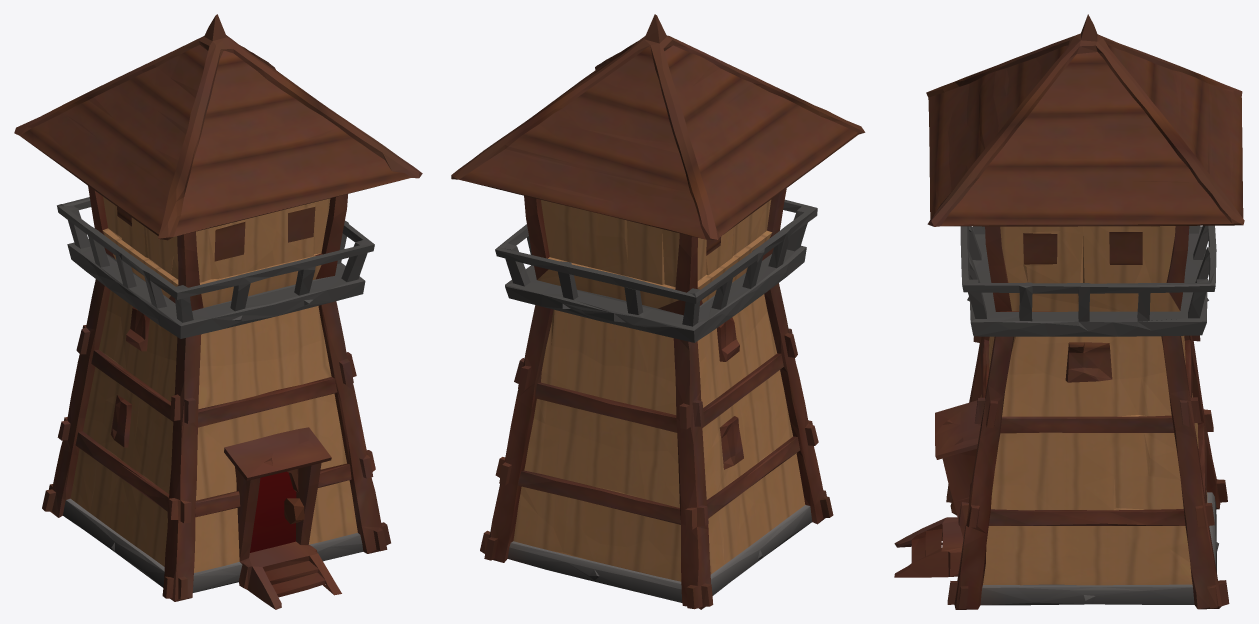
The model's file is Tower.fbx.
3 renders of one model, left to right at view 1: azimuth 30°, elevation 25°; view 2: azimuth 150°, elevation 25°; view 3: azimuth 270°, elevation 25°, orthographic. The views are drawn at different scales.
Parts seen in each view (by area): view 1: Tower; view 2: Tower; view 3: Tower.
Boxes of the visible parts, x1=… form: Tower: x1=14, y1=14, x2=422, y2=609; Tower: x1=451, y1=14, x2=865, y2=609; Tower: x1=894, y1=14, x2=1244, y2=609.
Size of the model in its own units: 4.46 by 8.35 by 4.84.
